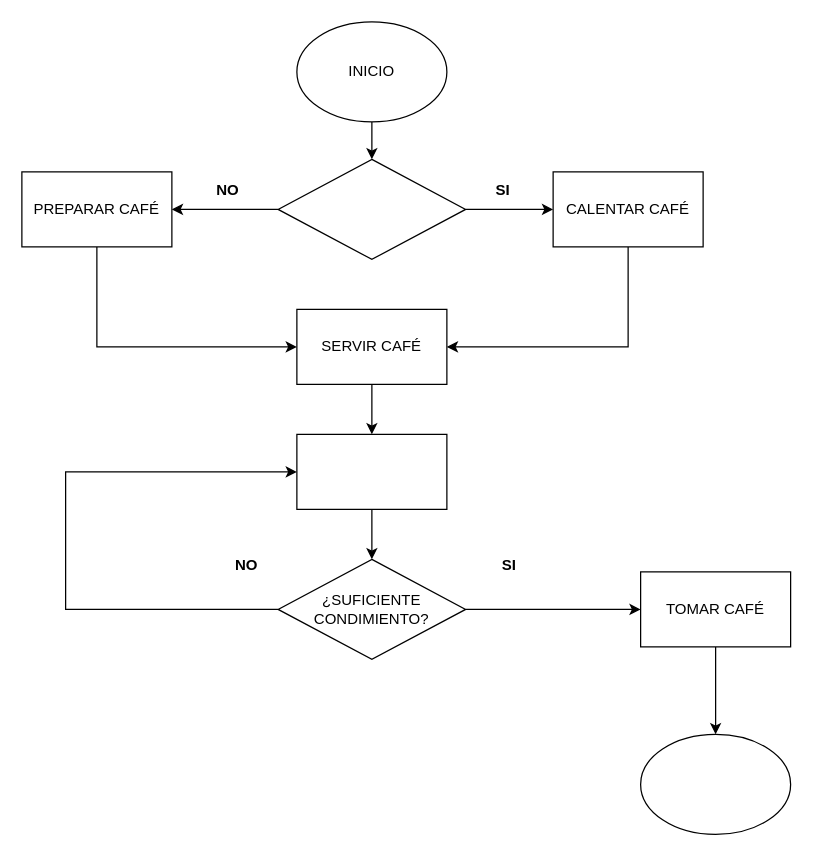
Some shapes in this 813 by 856 pixel diagram are drawn without their labels. Here are the shapes that lost their labels. From the top down, the centre of each, then its label:
the point at 371,208: ¿HAY CAFÉ?
the point at 371,471: CONDIMENTAR
the point at 715,783: FIN
